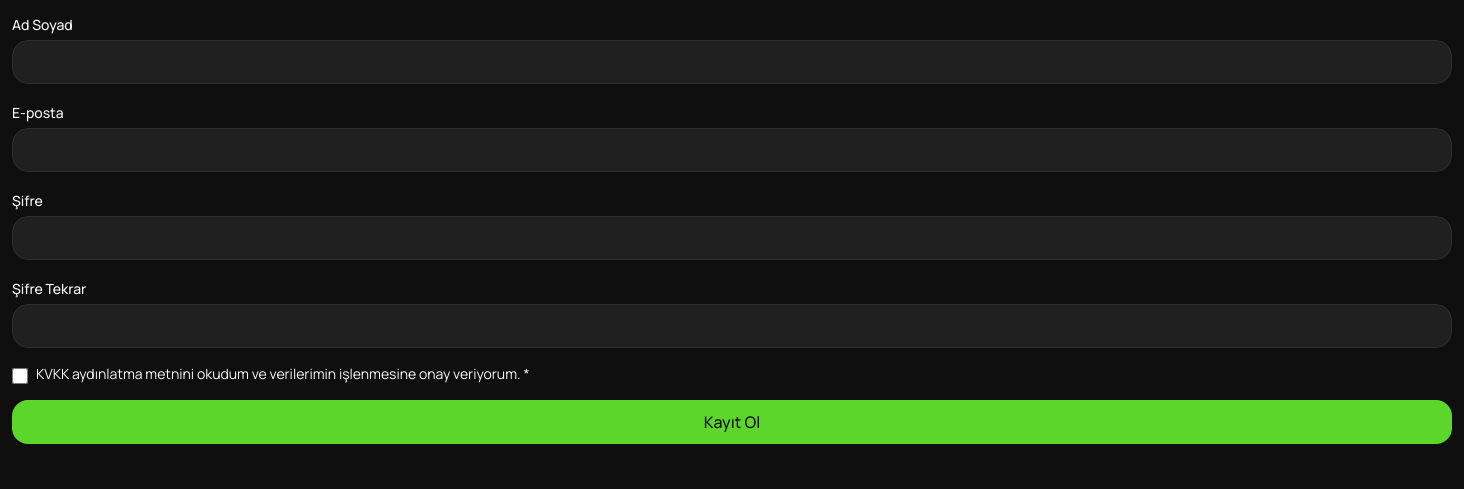
Scenario: RegisterForm › shows password mismatch error
The width and height of the screenshot is (1464, 489).
Type "Ahmet" into the field labelled "Ad Soyad" at (732, 62), box [12,40,1452,84]
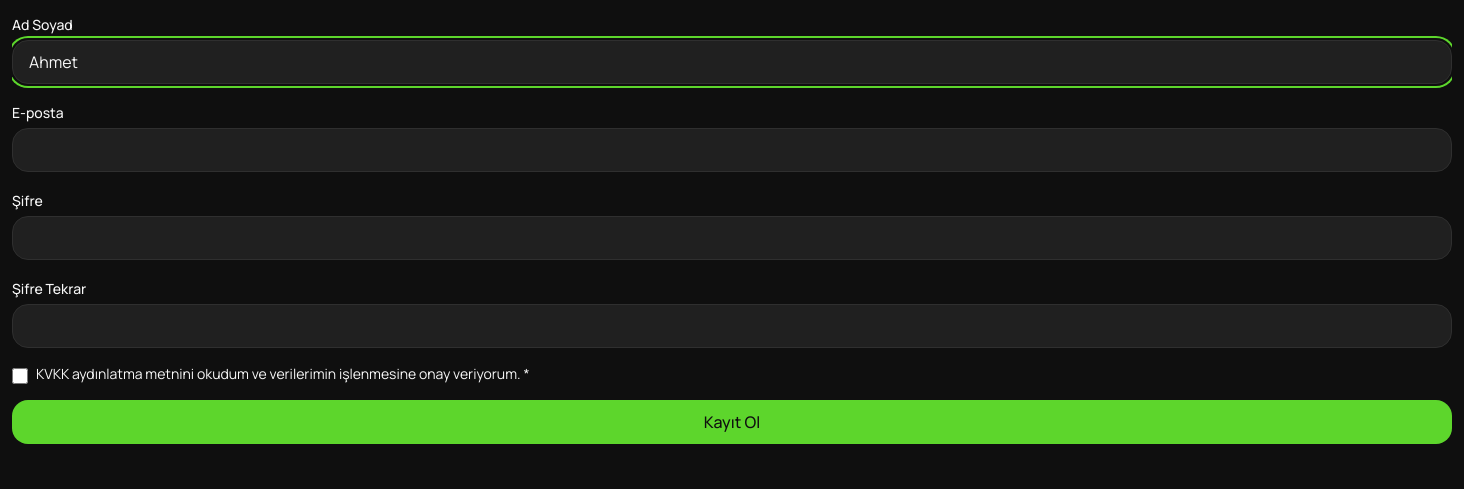
Type "a@b.com" into the field labelled "E-posta" at (732, 150), box [12,128,1452,172]
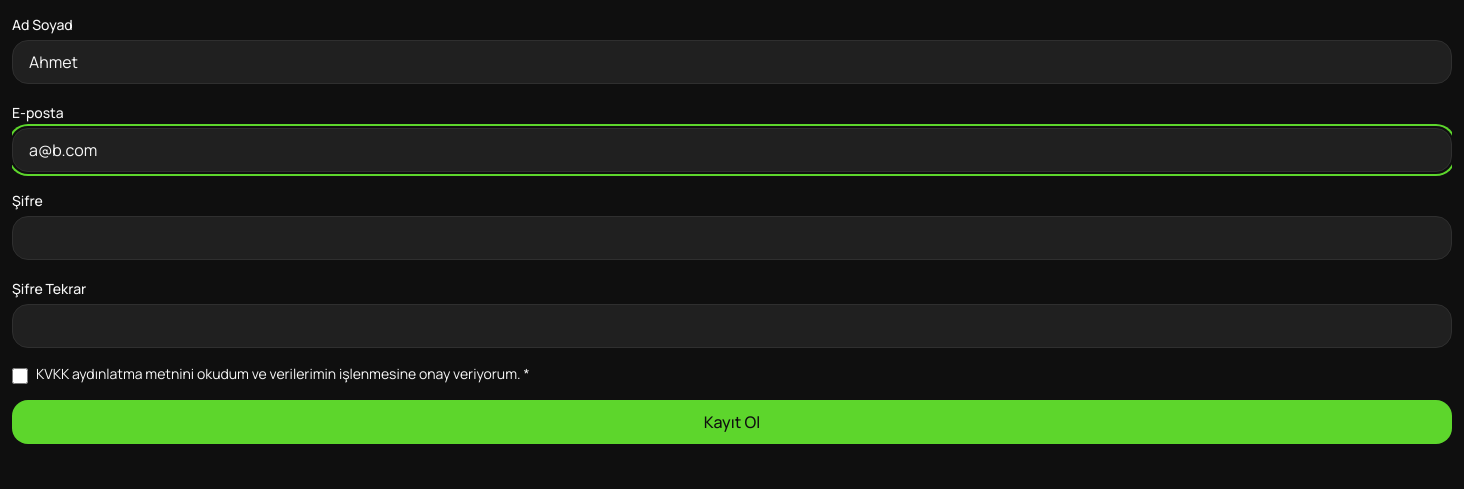
Type "X1abcdef" into the password field labelled "Şifre" at (732, 238), box [12,216,1452,260]
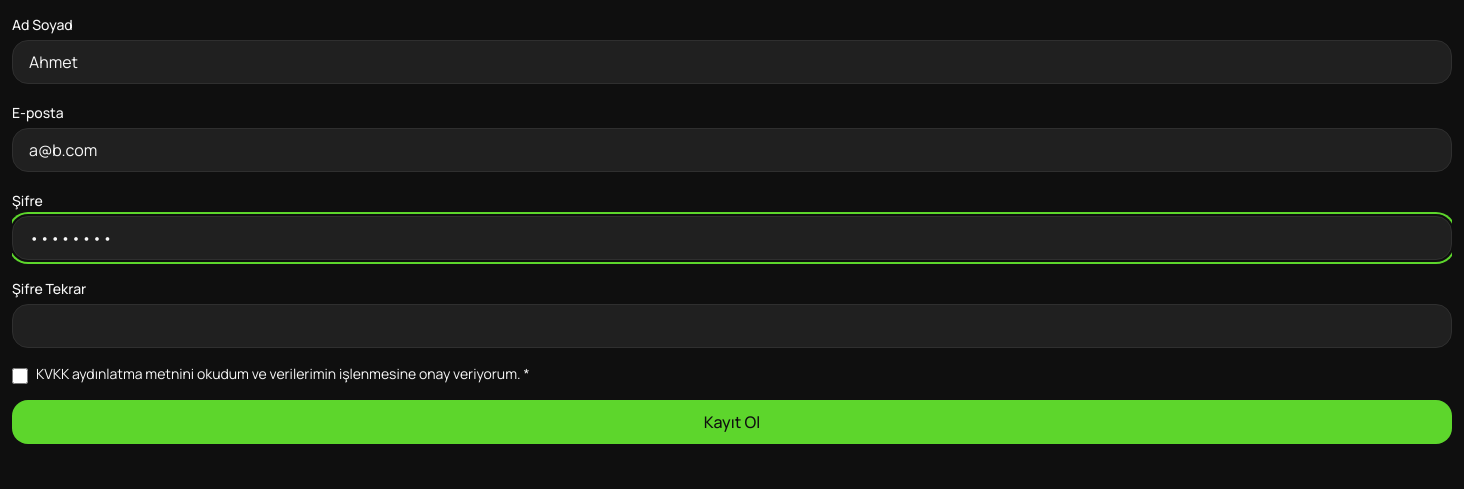
Type "different1" into the password field labelled "Şifre Tekrar" at (732, 326), box [12,304,1452,348]
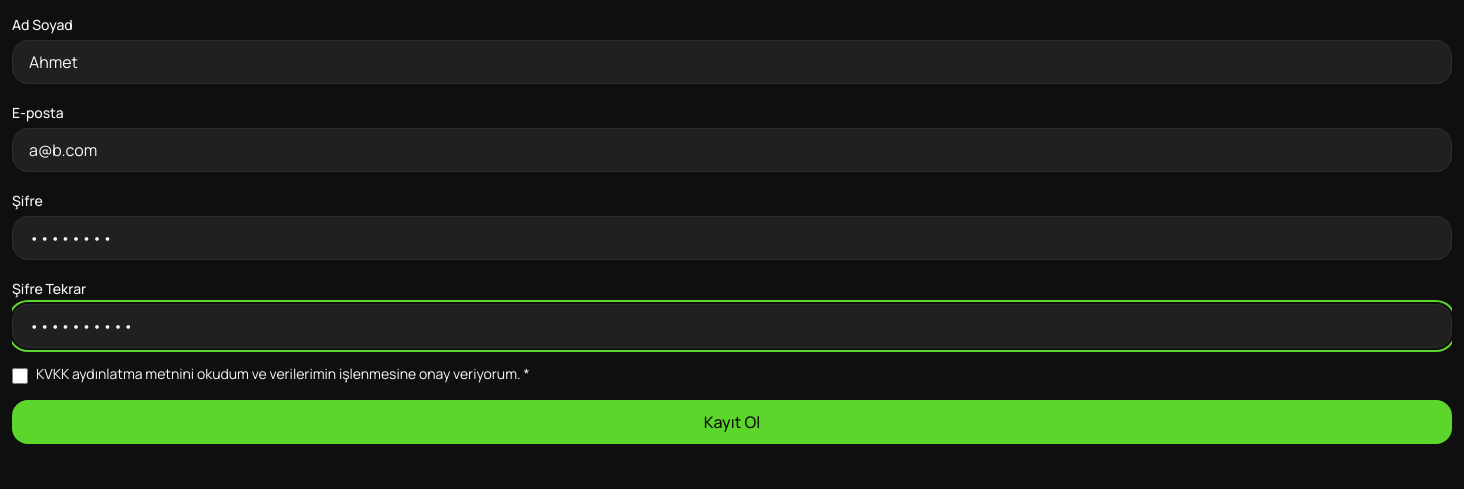
Click the checkbox labelled "KVKK" at (20, 376), box [12,368,28,384]
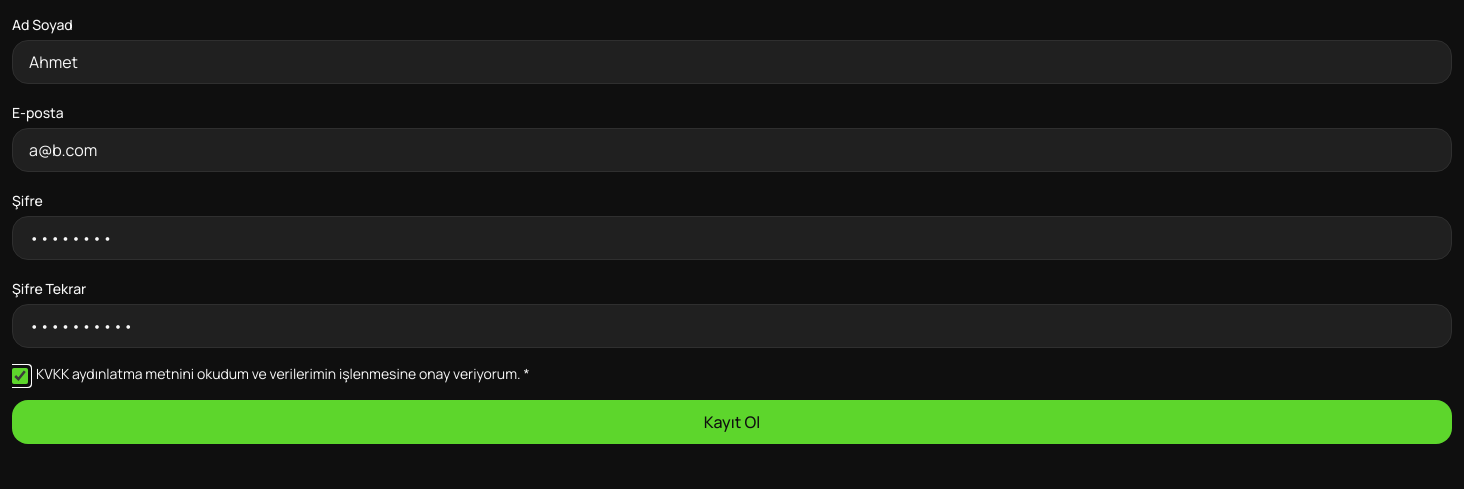
Click the button "Kayıt Ol" at (732, 422), box [12,400,1452,444]
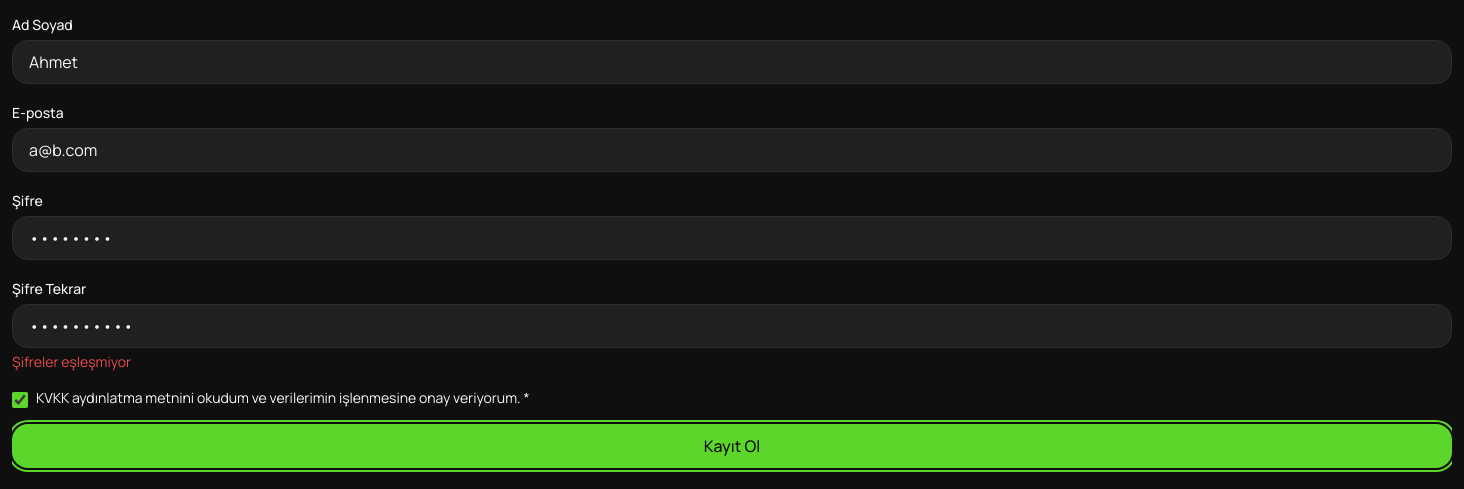
Now the text "Şifreler eşleşmiyor" is shown, box [12,352,131,371]
